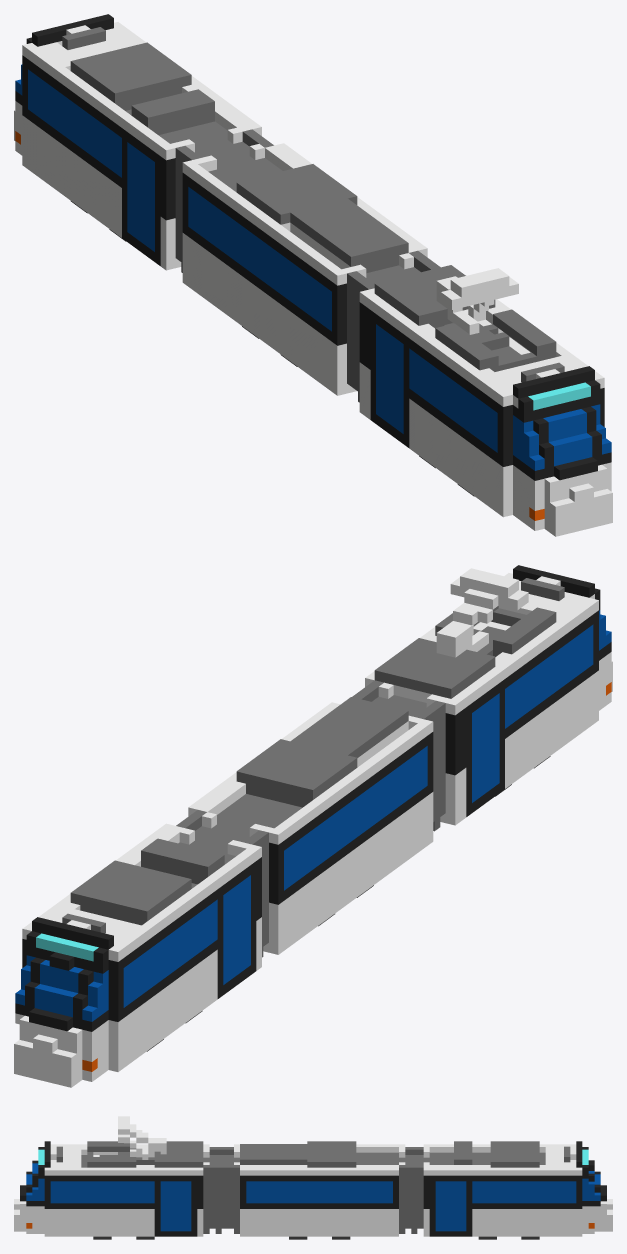
File: kfarr_veh_tram_avenio.obj
3 renders of one model, top to bottom at view 1: azimuth 30°, elevation 25°; view 2: azimuth 150°, elevation 25°; view 3: azimuth 270°, elevation 25°, orthographic. The views are drawn at different scales.
Size of the model in its own units: 10 by 19 by 98.
1 material, 1 textured.
